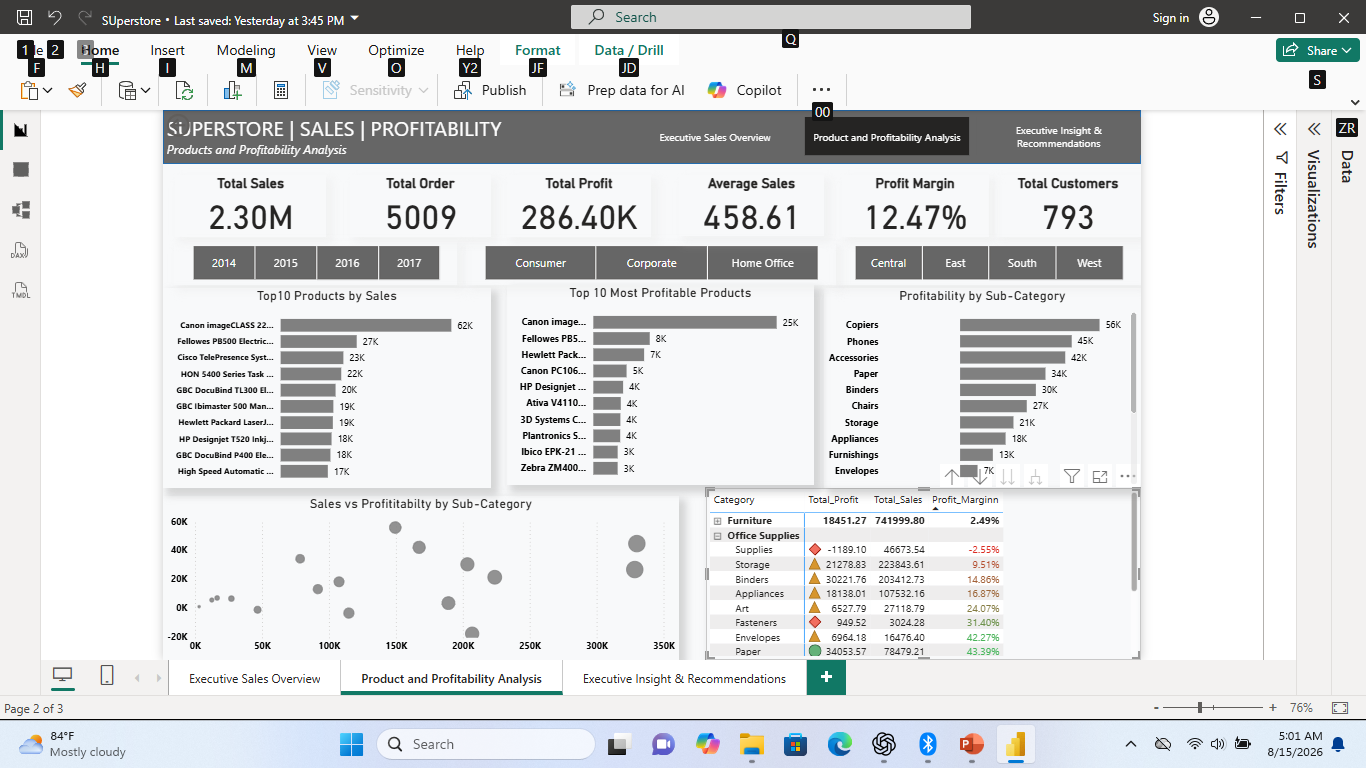

Layout of this report page (visuals, bound fields, positions):
{"tool":"powerbi","page":{"name":"Product and Profitability Analysis","canvas":[1280,720],"ordinal":1},"visuals":[{"type":"card","title":"Total Sales","fields":{"Values":["Sample - Superstore.Total_Sales"]},"box":[15.1,85.7,198.2,80.6],"z":0},{"type":"card","title":"Total Order","fields":{"Values":["Sample - Superstore.Total_Order"]},"box":[244.8,85,184.3,80.6],"z":1000},{"type":"card","title":"Total Profit","fields":{"Values":["Sample - Superstore.Total_Profit"]},"box":[450.7,85,188.6,80.6],"z":2000},{"type":"card","title":"Profit Margin","fields":{"Values":["Sample - Superstore.Profit_Marginn"]},"box":[888.5,85,191.5,80.6],"z":3000},{"type":"card","title":"Total Customers","fields":{"Values":["Count(Sample - Superstore.Customer ID)"]},"box":[1088.6,85,191.5,80.6],"z":4000},{"type":"slicer","fields":{"Values":["Calendar.Year"]},"box":[14.3,171.4,371.4,57.1],"z":5000},{"type":"slicer","fields":{"Values":["Sample - Superstore.Region"]},"box":[881.4,171.4,398.6,57.1],"z":6000},{"type":"slicer","fields":{"Values":["Sample - Superstore.Segment"]},"box":[397.1,171.4,484.3,57.1],"z":7000},{"type":"pivotTable","fields":{"Values":["Sample - Superstore.Total_Profit","Sample - Superstore.Total_Sales","Sample - Superstore.Profit_Marginn"],"Rows":["Sample - Superstore.Category","Sample - Superstore.Sub-Category"]},"box":[788.1,494.8,492.2,225.2],"z":8000},{"type":"clusteredBarChart","title":"Top 10 Most Profitable Products","fields":{"Category":["Sample - Superstore.Product Name"],"Y":["Sample - Superstore.Total_Profit"]},"box":[450.7,229,401.8,262.1],"z":9000},{"type":"barChart","title":"Top10 Products by Sales","fields":{"Category":["Sample - Superstore.Product Name"],"Y":["Sample - Superstore.Total_Sales"]},"box":[0,233.3,429.1,262.1],"z":10000},{"type":"clusteredBarChart","title":"Profitability by Sub-Category","fields":{"Category":["Sample - Superstore.Sub-Category"],"Y":["Sample - Superstore.Total_Profit"]},"box":[865.4,233.3,414.7,262.1],"z":11000},{"type":"shape","box":[0,0,1280,70.6],"z":12000},{"type":"textbox","box":[0,0,568.4,70.2],"z":13000},{"type":"clusteredColumnChart","title":"Sales vs Profititabilty  by Sub-Category","fields":{"Category":["Sample - Superstore.Sub-Category"],"Y":["Sample - Superstore.Total_Sales","Sample - Superstore.Total_Profit"]},"box":[0,505.3,771.1,214.7],"z":14000},{"type":"pageNavigator","box":[614.9,8.6,665.3,50.4],"z":16000},{"type":"actionButton","box":[0,0,100,40],"z":17000},{"type":"card","title":"Average Sales","fields":{"Values":["Sample - Superstore.Average_sales"]},"box":[675.8,85.3,189.9,79.8],"z":18000}]}

Visuals, with their boxes on the page's 1280x720 design canvas (x1, y1, x2, y2). These are canvas units, not pixel positions in the 1366x768 screenshot, which may show the page scaled, cropped or inside an application window:
"Total Sales" card: rect(15, 86, 213, 166)
"Total Order" card: rect(245, 85, 429, 166)
"Total Profit" card: rect(451, 85, 639, 166)
"Profit Margin" card: rect(888, 85, 1080, 166)
"Total Customers" card: rect(1089, 85, 1280, 166)
slicer - Calendar.Year: rect(14, 171, 386, 228)
slicer - Sample - Superstore.Region: rect(881, 171, 1280, 228)
slicer - Sample - Superstore.Segment: rect(397, 171, 881, 228)
pivotTable - Sample - Superstore.Total_Profit x Sample - Superstore.Total_Sales: rect(788, 495, 1280, 720)
"Top 10 Most Profitable Products" clusteredBarChart: rect(451, 229, 852, 491)
"Top10 Products by Sales" barChart: rect(0, 233, 429, 495)
"Profitability by Sub-Category" clusteredBarChart: rect(865, 233, 1280, 495)
shape: rect(0, 0, 1280, 71)
textbox: rect(0, 0, 568, 70)
"Sales vs Profititabilty  by Sub-Category" clusteredColumnChart: rect(0, 505, 771, 720)
pageNavigator: rect(615, 9, 1280, 59)
actionButton: rect(0, 0, 100, 40)
"Average Sales" card: rect(676, 85, 866, 165)
